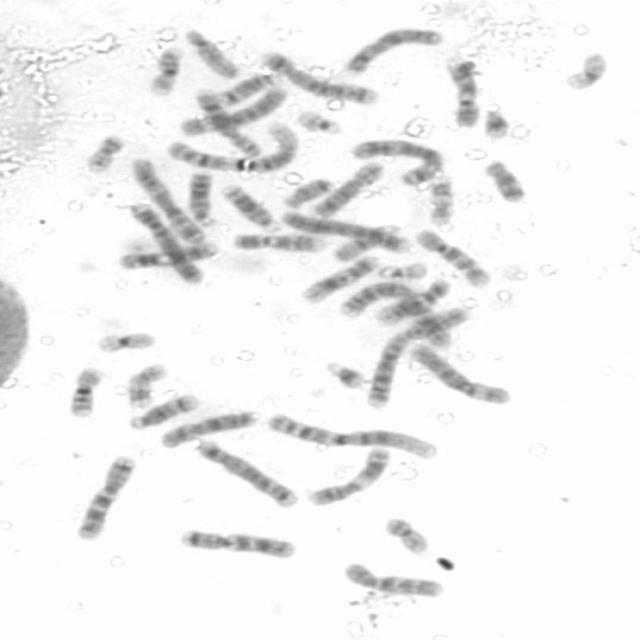A1: (263, 410, 441, 461), (168, 118, 298, 174)
A2: (361, 304, 472, 410), (335, 280, 455, 351)
A3: (128, 155, 206, 245), (347, 136, 444, 186)
B4: (124, 199, 207, 286), (277, 207, 411, 253)
B5: (191, 436, 300, 508), (258, 48, 380, 106)
C10: (412, 226, 492, 289), (338, 558, 446, 598)
C11: (303, 443, 391, 508), (113, 238, 223, 270)
C12: (294, 251, 380, 305), (371, 275, 454, 328)
C6: (407, 340, 512, 406), (173, 81, 288, 138)
C7: (72, 452, 138, 542), (174, 525, 298, 560)
C8: (190, 85, 264, 159), (306, 158, 386, 220)
C9: (440, 55, 482, 129), (229, 229, 329, 254)
D13: (217, 182, 284, 234), (184, 168, 218, 227)
D14: (125, 390, 202, 430), (215, 68, 281, 108)
D15: (180, 26, 241, 80), (329, 221, 398, 262)
E16: (63, 362, 106, 418), (144, 44, 184, 97)
E17: (122, 359, 169, 410), (424, 172, 456, 228)
E18: (480, 157, 528, 203), (279, 176, 335, 208)
F19: (560, 48, 609, 92), (93, 328, 157, 354)
F20: (379, 514, 431, 555), (81, 130, 125, 173)
G21: (321, 358, 368, 391), (479, 104, 511, 140)
G22: (292, 107, 344, 135), (373, 258, 429, 280)
X: (341, 25, 446, 75), (155, 406, 259, 449)
